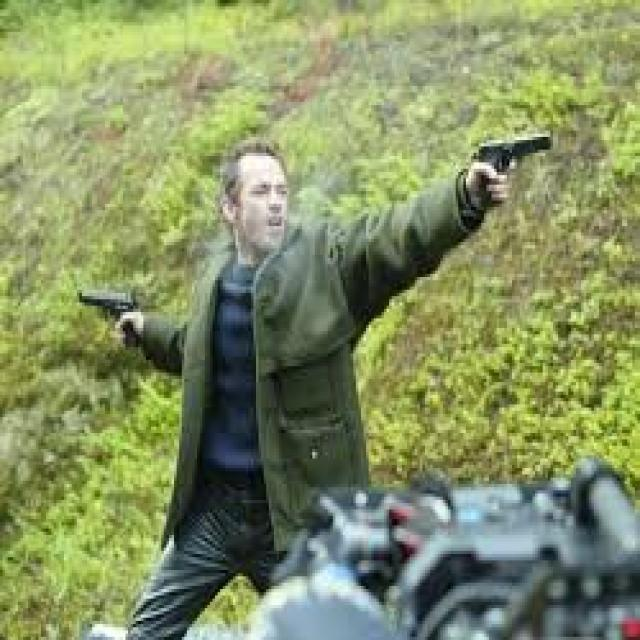gun: (453, 126, 592, 212), (70, 275, 160, 359)
